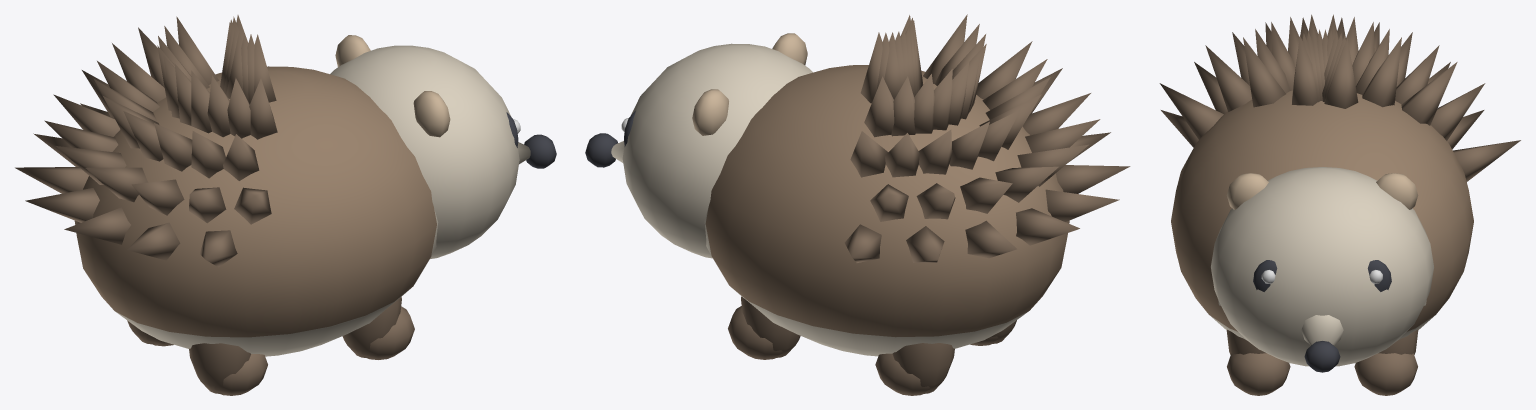
File: hedgehog.glb
The picture shows the model from 3 angles, left to right: view 1: azimuth 30°, elevation 25°; view 2: azimuth 150°, elevation 25°; view 3: azimuth 270°, elevation 25°; orthographic projection. The views are drawn at different scales.
Visible parts, largest first — view 1: Body, Head, LegBR, LegFR; view 2: Body, Head, LegBL, LegFL; view 3: Body, Head, LegFL, LegFR.
Part boxes in pixels (box(x1,y1,x2,y2)): Body: box(15, 15, 438, 356); Head: box(330, 35, 556, 258); LegBR: box(189, 343, 267, 395); LegFR: box(342, 297, 414, 359); Body: box(704, 14, 1130, 356); Head: box(585, 33, 812, 258); LegBL: box(875, 343, 954, 395); LegFL: box(728, 296, 800, 359); Body: box(1159, 14, 1520, 340); Head: box(1211, 167, 1433, 372); LegFL: box(1354, 329, 1418, 395); LegFR: box(1226, 329, 1290, 395).
Bounding box in the file's own units: 1.39 × 0.8613 × 0.9081.
